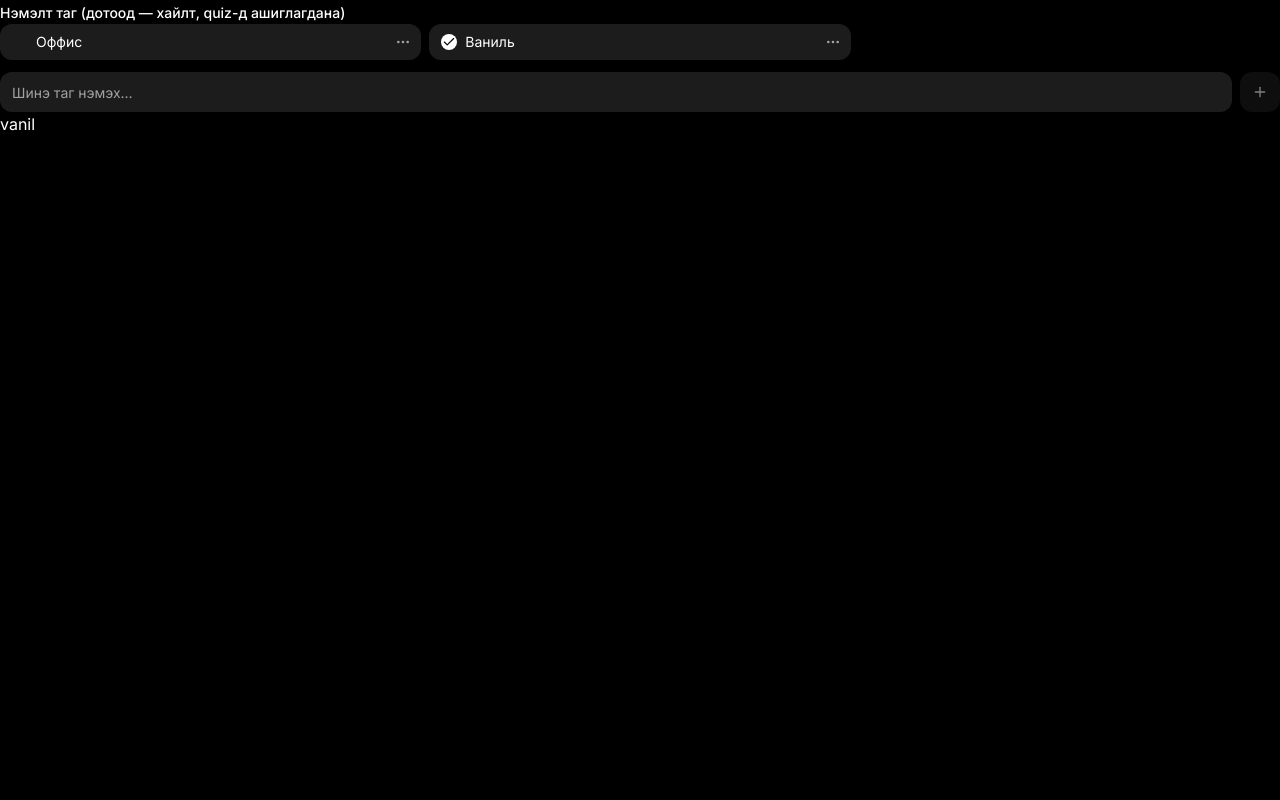
CustomTagField › carries a ticked tag across a rename that changes its slug
Click the button named "Ваниль — үйлдэл": (833,42) [823, 32, 843, 52]
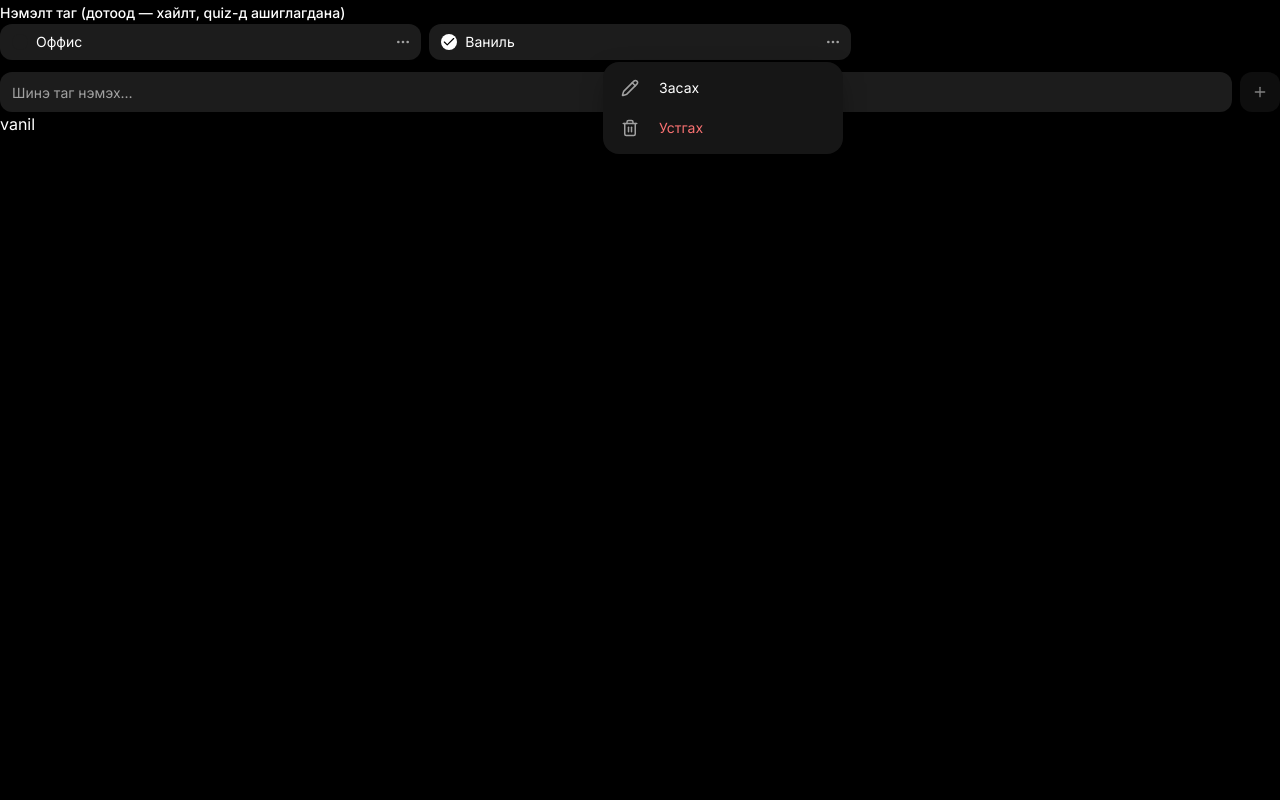
Click the menu item "Засах": (660,88) [621, 79, 699, 97]
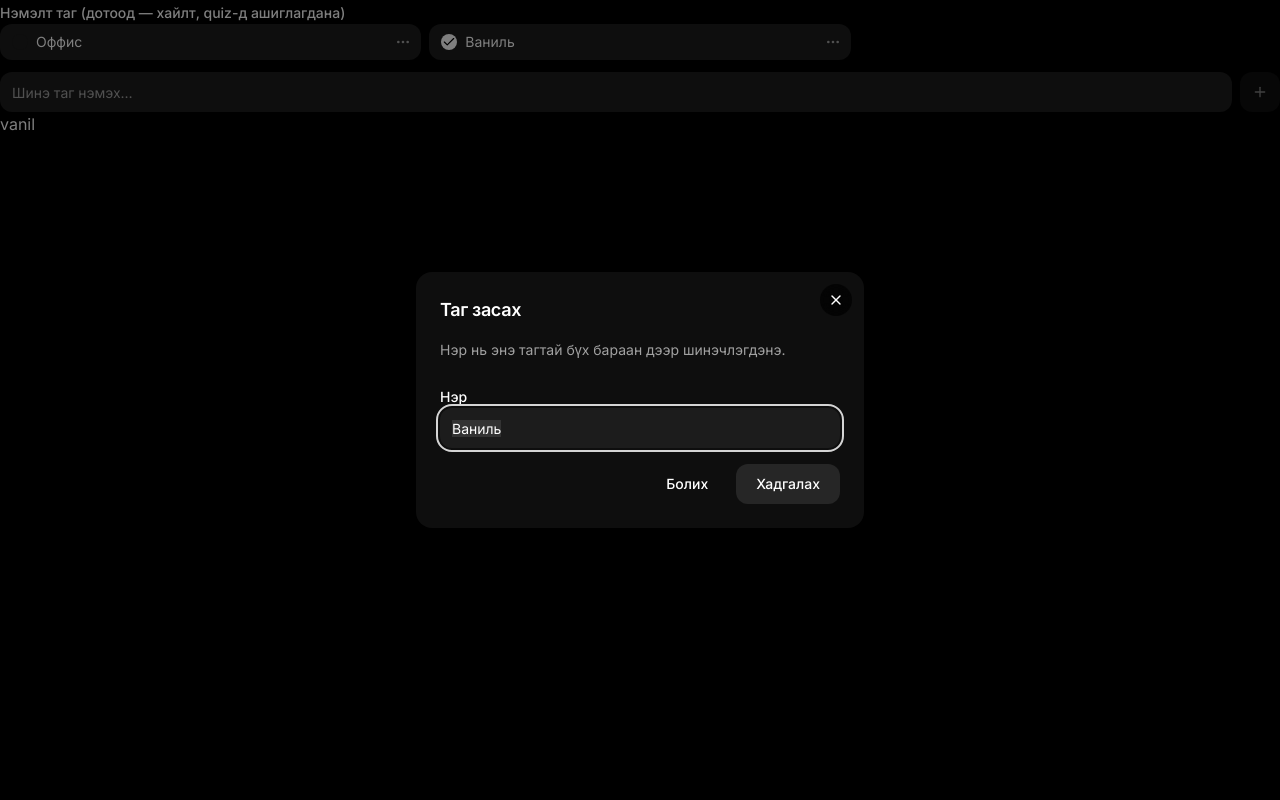
Replace the text in the field labelled "Нэр" with "Ваниль тос": (640,428) [440, 408, 840, 448]
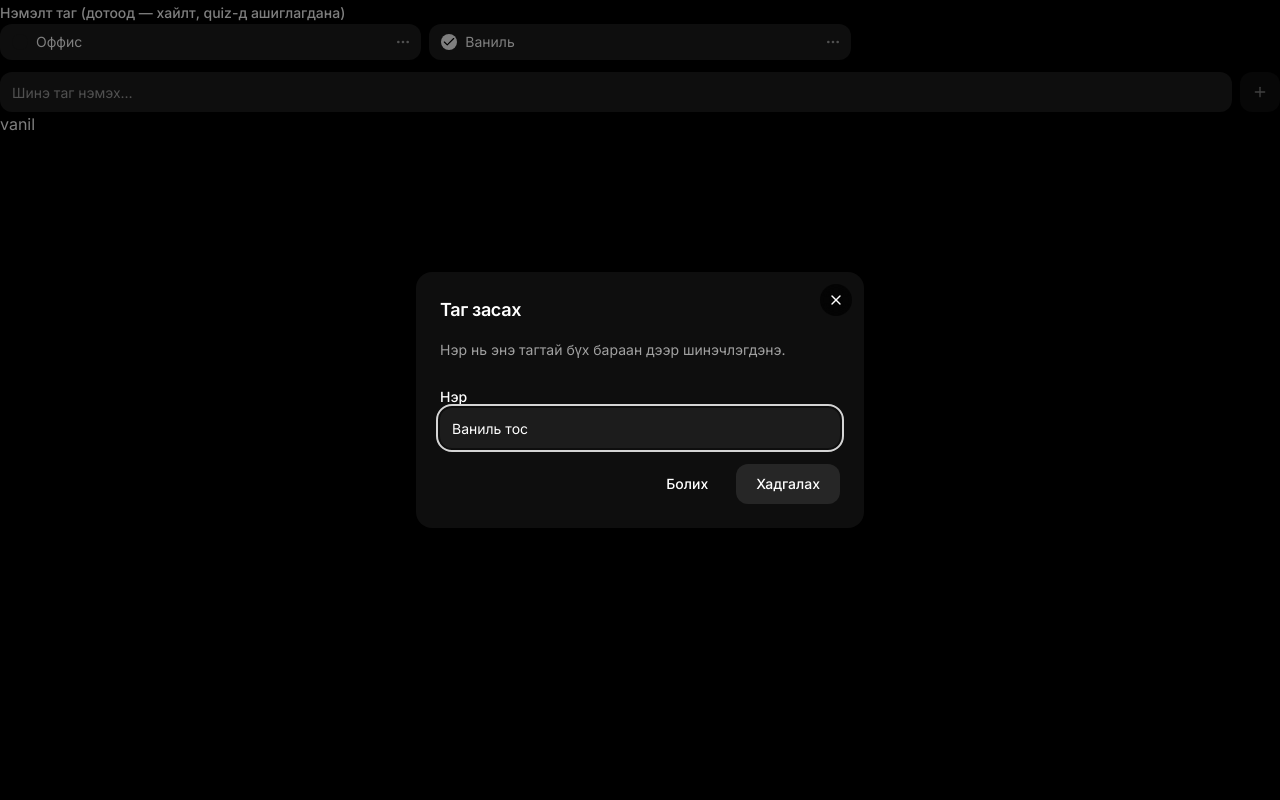
Click the button "Хадгалах": (788,484) [736, 464, 840, 504]
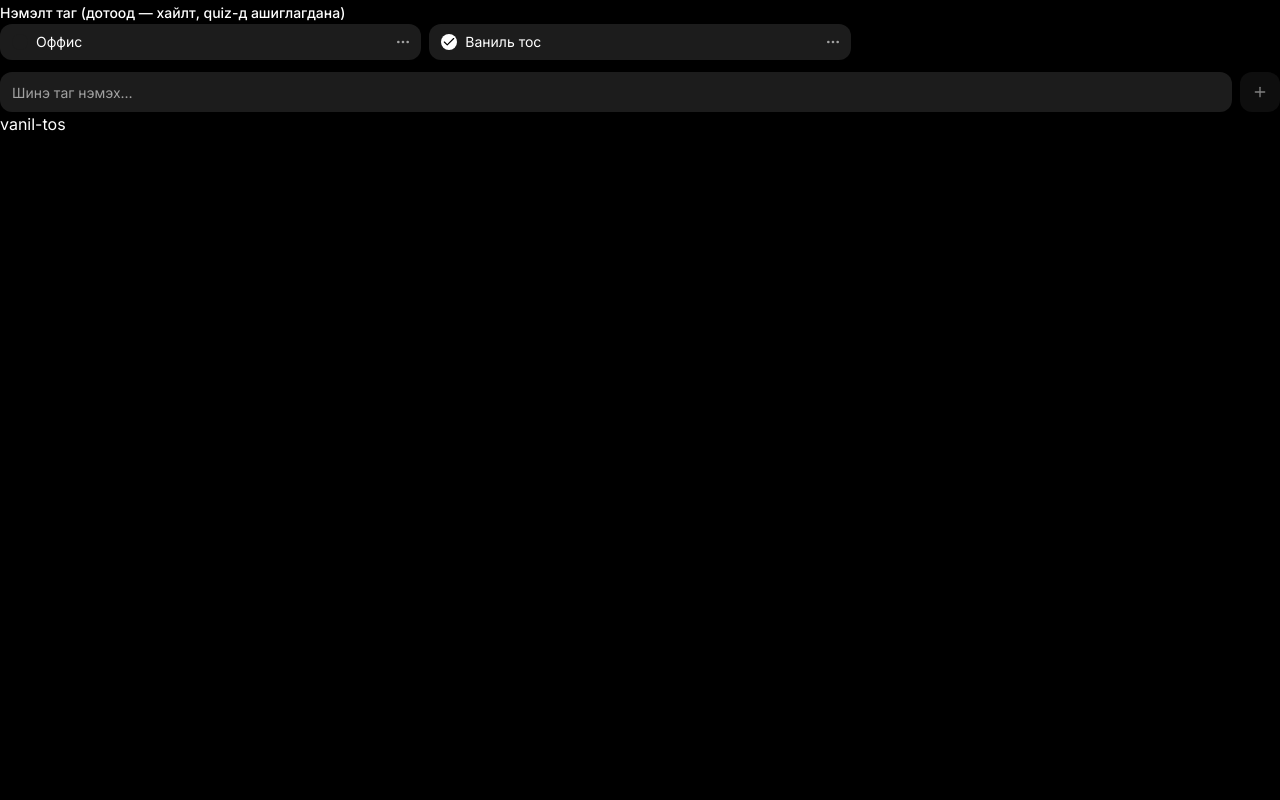
Check: the text with test id "selected" reads "vanil-tos", box [0, 114, 66, 134]
